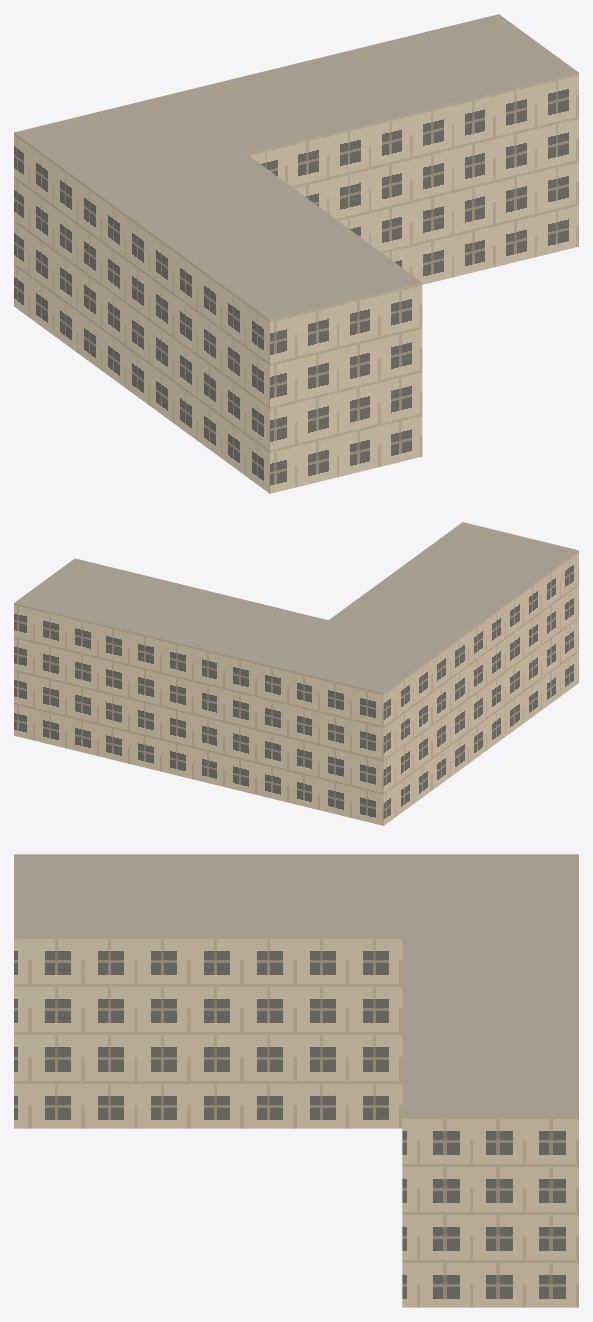
The model's file is l-shaped-wing.glb.
3 renders of one model, top to bottom at view 1: azimuth 30°, elevation 25°; view 2: azimuth 150°, elevation 25°; view 3: azimuth 270°, elevation 25°, orthographic. The views are drawn at different scales.
Parts seen in each view (by area): view 1: L-shaped wing; view 2: L-shaped wing; view 3: L-shaped wing.
Boxes of the visible parts, x1=… form: L-shaped wing: x1=14, y1=14, x2=578, y2=493; L-shaped wing: x1=14, y1=522, x2=578, y2=825; L-shaped wing: x1=14, y1=854, x2=578, y2=1307.
Bounding box in the file's own units: 35 × 12 × 32.
Materials: 2 (1 with a texture image).
